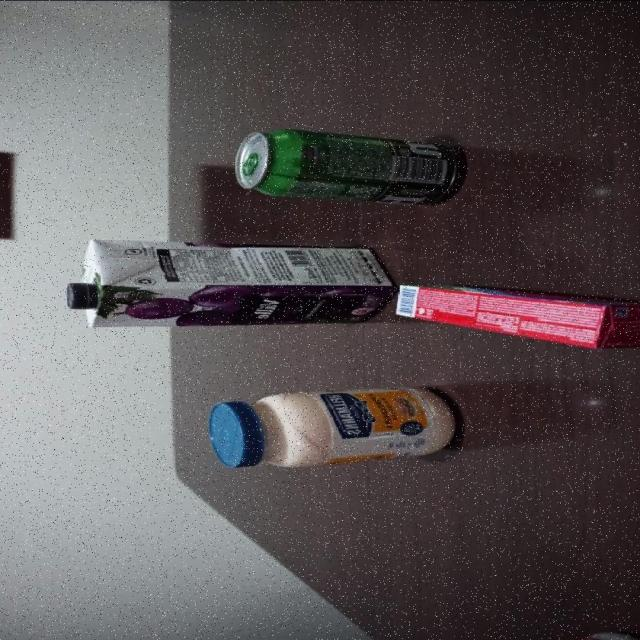BeerCan: (233, 130, 460, 206)
Mayonnaise: (208, 383, 460, 469)
Toothpaste: (396, 281, 640, 351)
